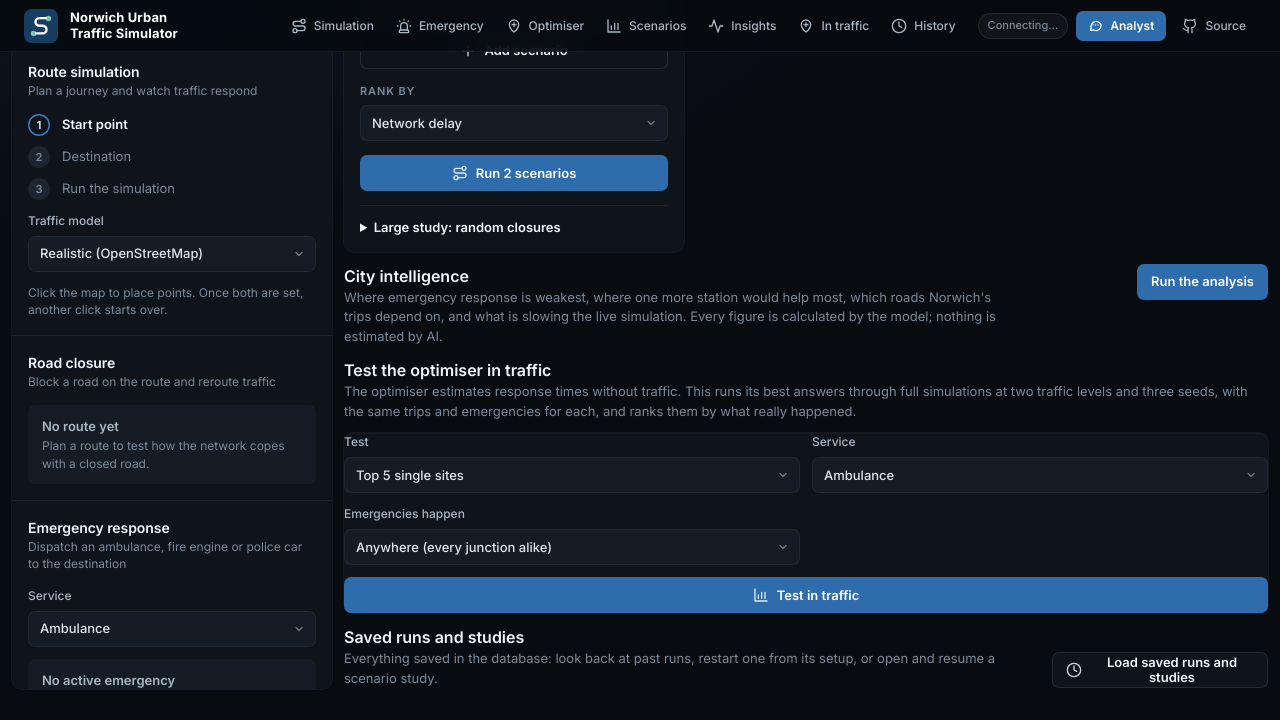
Test: the History section › lists the saved runs and studies
The image size is (1280, 720).
(page scrolled)
Step 1. Click the button "Load saved runs and studies" → (1160, 670), box [1052,652,1268,688]
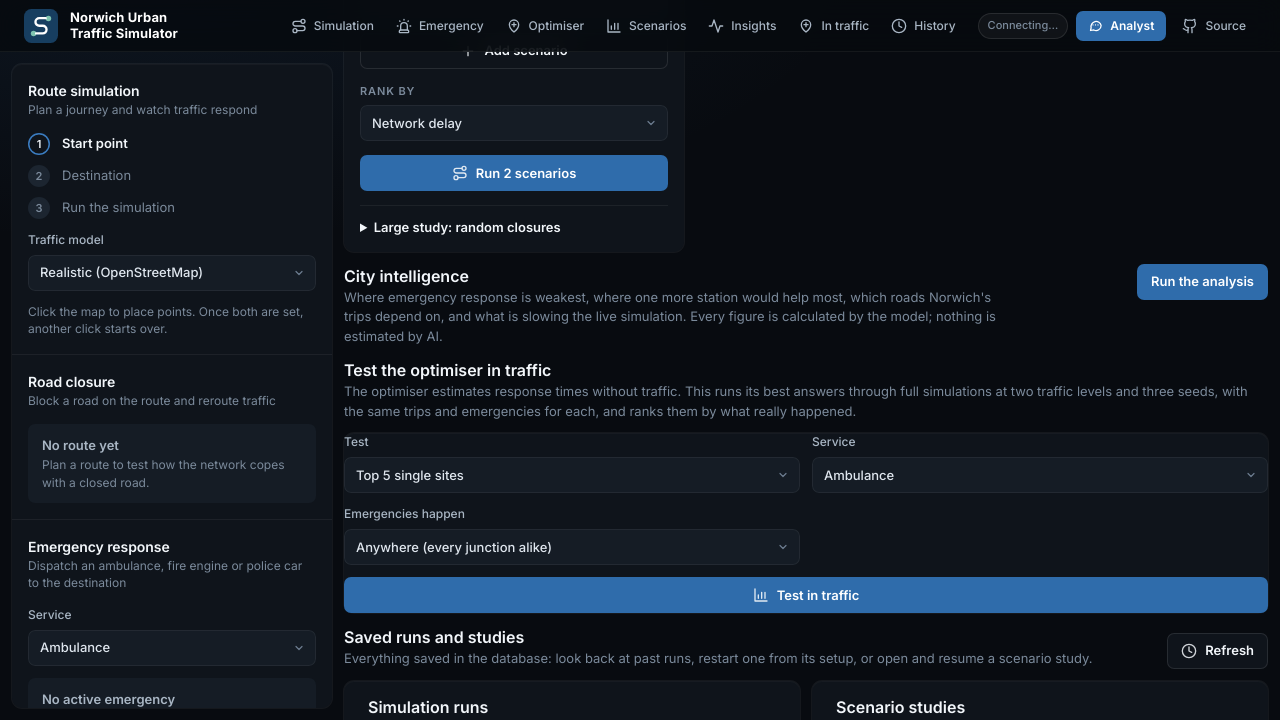
Check: the button "Refresh" is shown, box [1167,633,1268,669]
